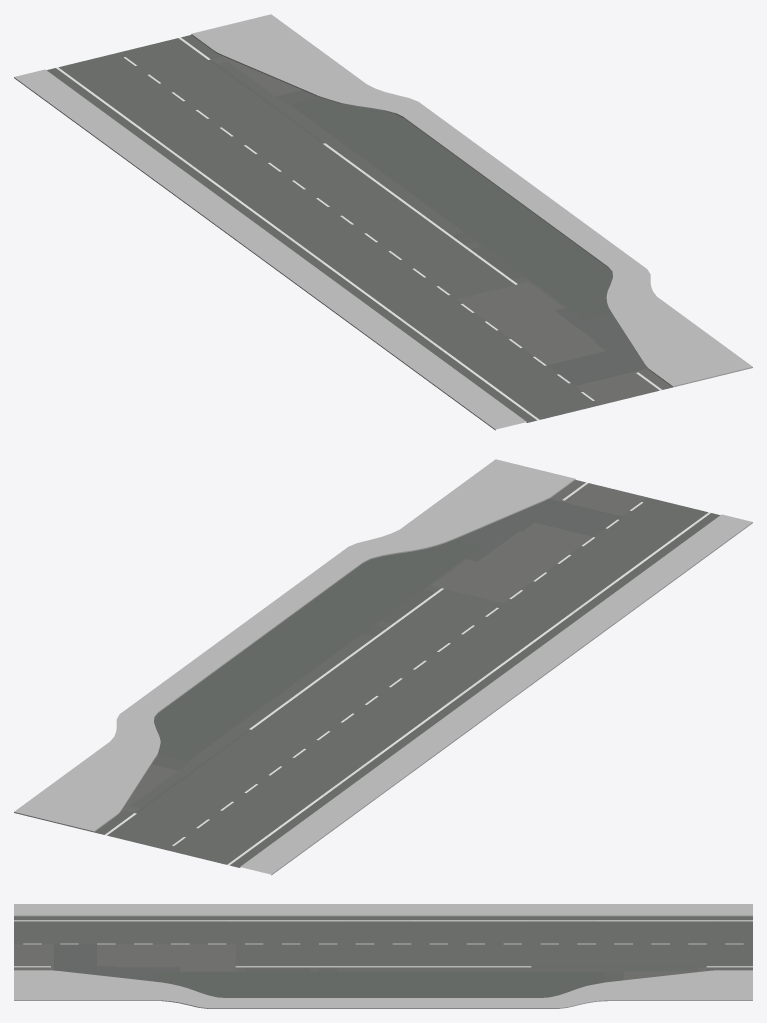
Rendered from Straight_Bus.fbx.
3 renders of one model, top to bottom at view 1: azimuth 30°, elevation 25°; view 2: azimuth 150°, elevation 25°; view 3: azimuth 270°, elevation 25°, orthographic. The views are drawn at different scales.
Visible parts, largest first — view 1: Plane; view 2: Plane; view 3: Plane.
Part boxes in pixels (x1=…): Plane: x1=14, y1=14, x2=752, y2=430; Plane: x1=14, y1=459, x2=752, y2=875; Plane: x1=14, y1=904, x2=752, y2=1008.
Size of the model in its own units: 20 by 0.075 by 60.
